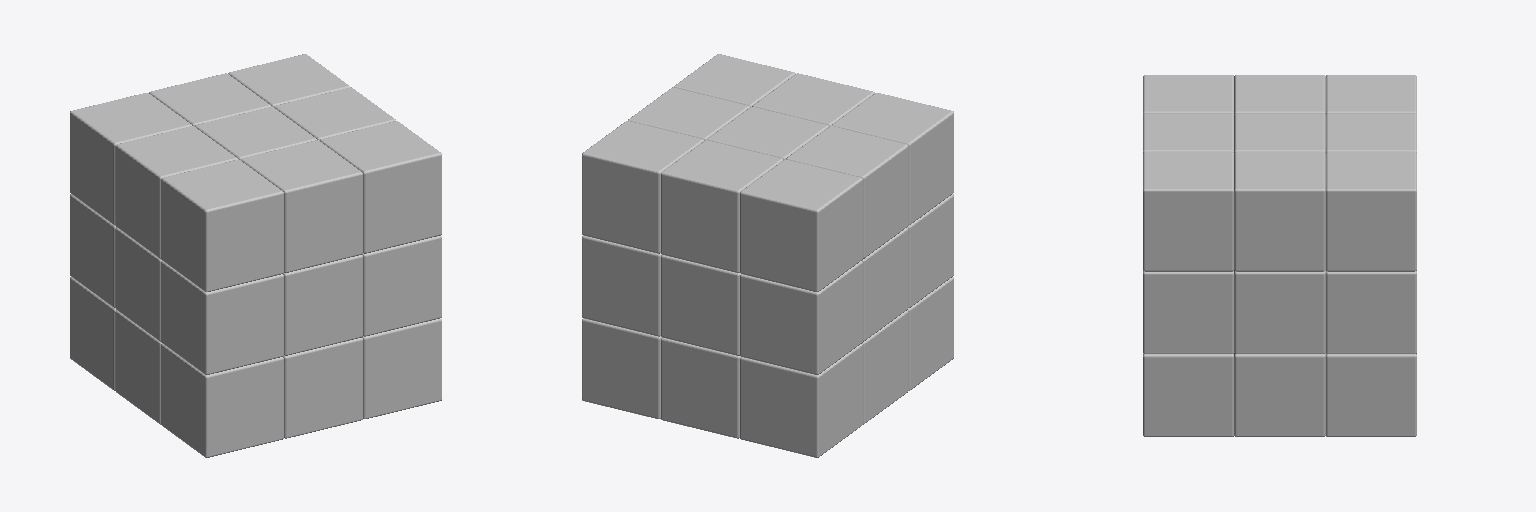
The picture shows the model from 3 angles: view 1: azimuth 30°, elevation 25°; view 2: azimuth 150°, elevation 25°; view 3: azimuth 270°, elevation 25°; orthographic projection.
Parts seen in each view (by area): view 1: Baked_baked_0; view 2: Baked_baked_0; view 3: Baked_baked_0.
Boxes of the visible parts, box(x1,y1,x2,y2) form: Baked_baked_0: box(70, 54, 441, 457); Baked_baked_0: box(582, 54, 953, 457); Baked_baked_0: box(1143, 75, 1416, 436).
Bounding box in the file's own units: 6 × 6 × 6.